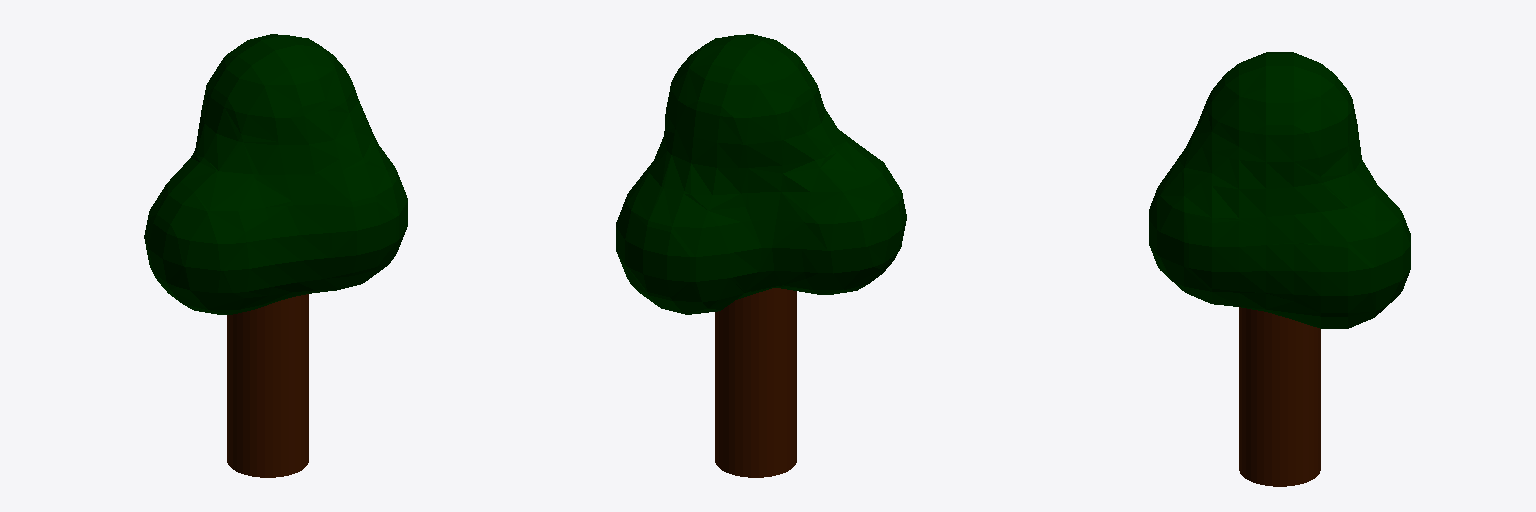
The model's file is Tree.obj.
The picture shows the model from 3 angles: view 1: azimuth 30°, elevation 25°; view 2: azimuth 150°, elevation 25°; view 3: azimuth 270°, elevation 25°; orthographic projection.
Parts seen in each view (by area): view 1: Leaves_Mesh, Trunk_Cylinder; view 2: Leaves_Mesh, Trunk_Cylinder; view 3: Leaves_Mesh, Trunk_Cylinder.
Boxes of the visible parts, x1,y1,x2,y2 form: Leaves_Mesh: [144, 34, 407, 314]; Trunk_Cylinder: [227, 294, 308, 477]; Leaves_Mesh: [616, 34, 906, 314]; Trunk_Cylinder: [715, 288, 796, 477]; Leaves_Mesh: [1149, 52, 1410, 328]; Trunk_Cylinder: [1239, 307, 1320, 486].
Bounding box in the file's own units: 1.93 × 3.36 × 1.92.